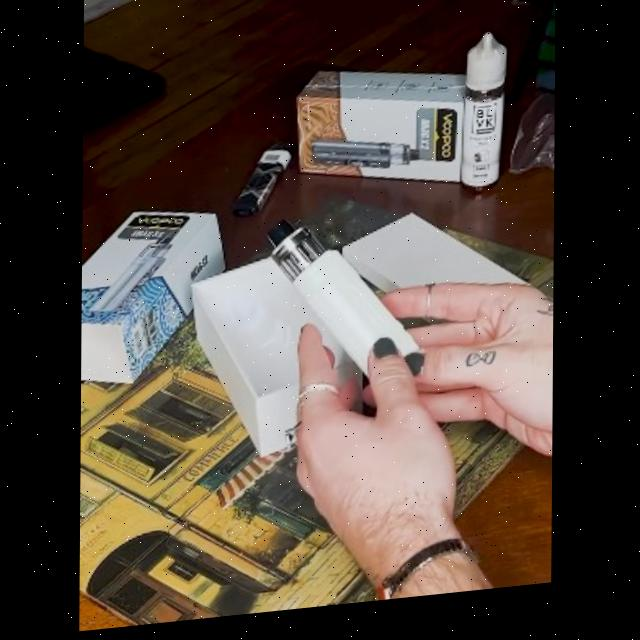vape: (265, 214, 423, 397), (89, 238, 174, 315), (232, 146, 298, 225), (311, 137, 421, 183)
